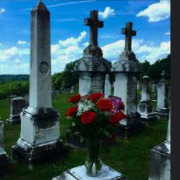RedRose: (80, 112, 96, 127), (96, 100, 114, 112), (66, 105, 78, 118)
